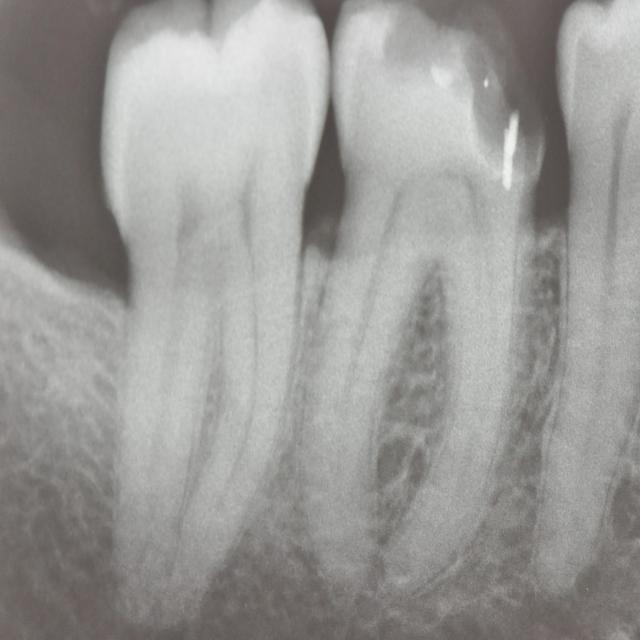Caries: (328, 4, 546, 587)
